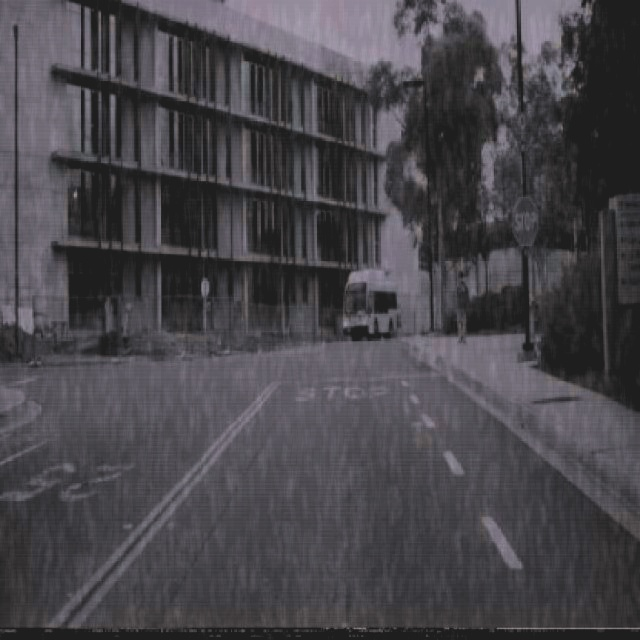stop: (512, 196, 540, 248)
